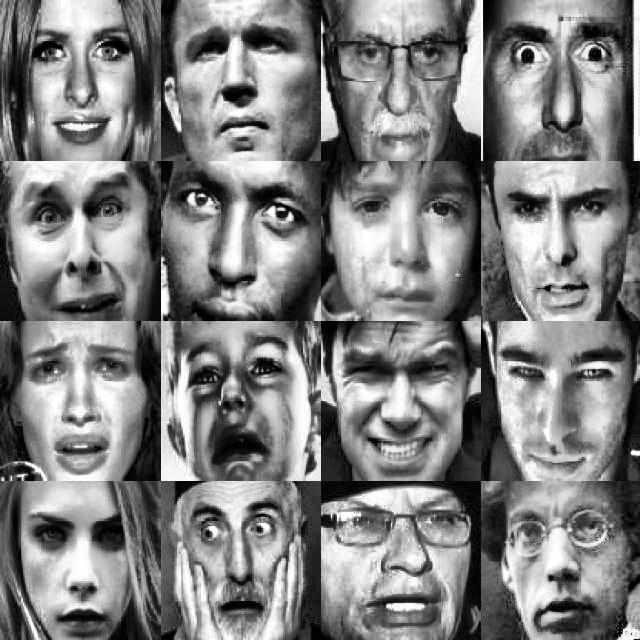angry: (496, 180, 622, 312)
fear: (171, 491, 319, 633), (497, 19, 626, 147)
happy: (18, 19, 144, 147), (25, 175, 143, 306)
neutral: (172, 171, 309, 319), (329, 504, 473, 636), (13, 492, 147, 630), (343, 15, 469, 153), (181, 11, 299, 153), (498, 502, 620, 630), (495, 348, 613, 480)
sad: (338, 325, 460, 469), (175, 335, 304, 469), (342, 177, 471, 309), (22, 329, 140, 467)
